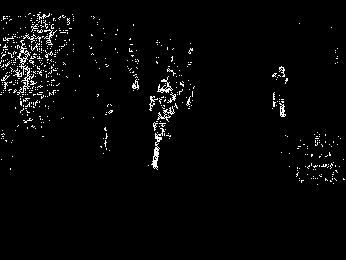person: (150, 78, 178, 170), (271, 67, 289, 118), (124, 50, 140, 91)
